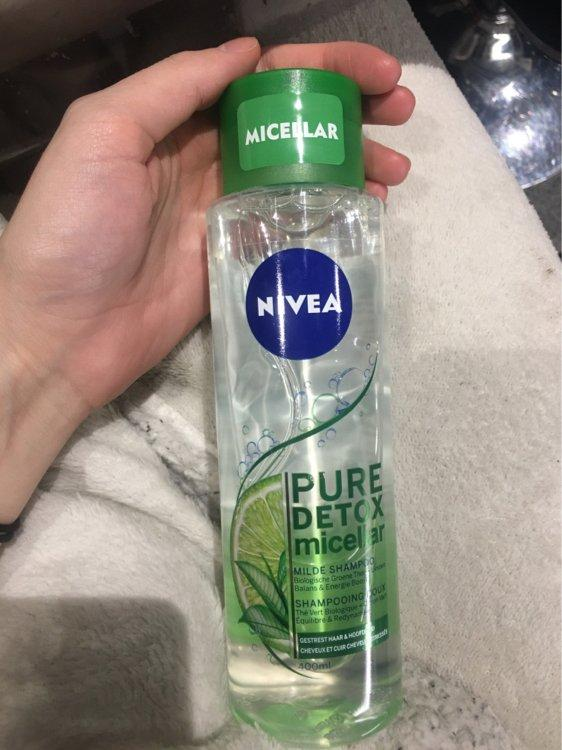plastic: (208, 42, 412, 749)
